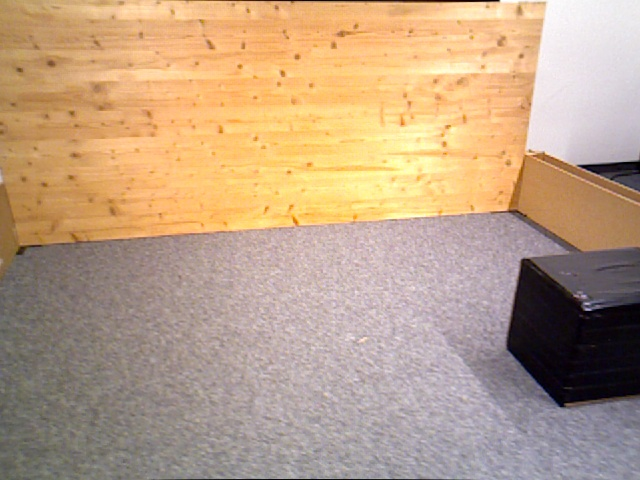push: (510, 248, 640, 402)
